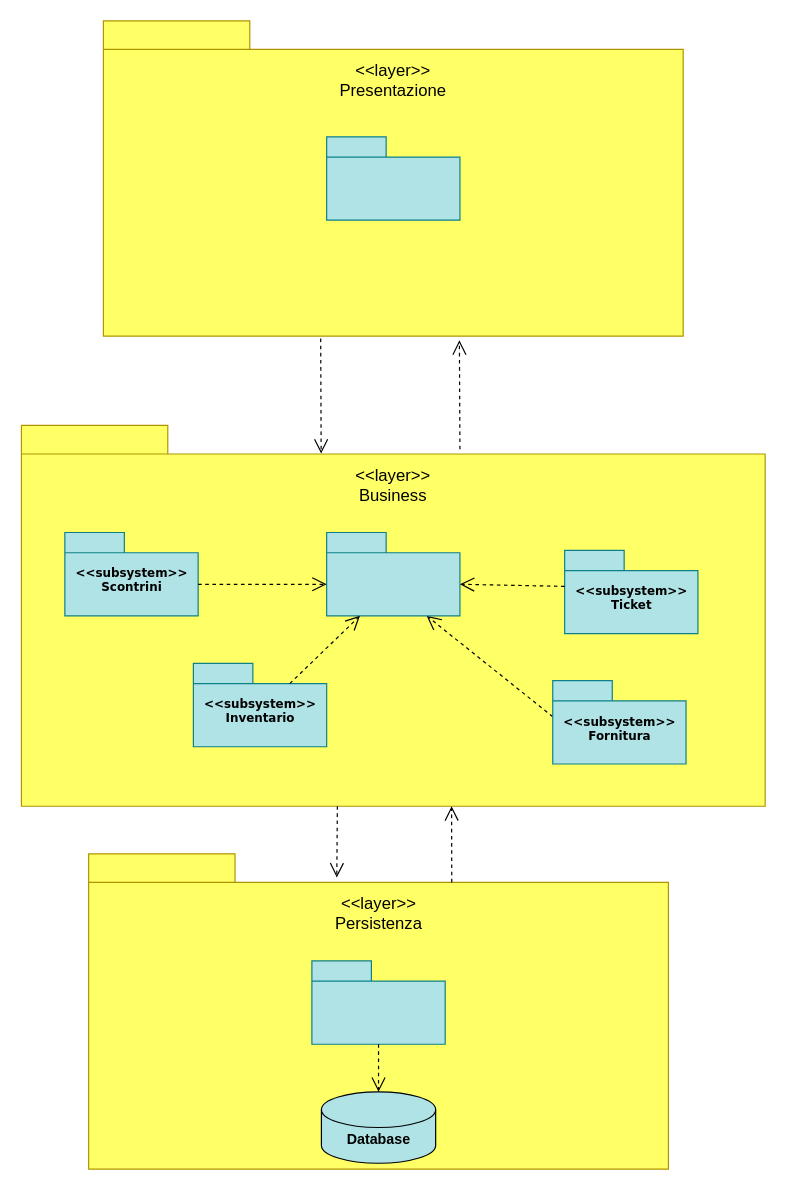
The diagram is 785 pixels wide and 1190 high, and some of its shapes have lost their labels. The shapes that lost their labels are listed below. From the top down, each one's centre as x and y in pixels, then its label:
At [392,178]: "<<subsystem>> UI".
At [392,573]: "<<subsystem>> Utenza".
At [378,1002]: "<<subsystem>> Data Acces".
